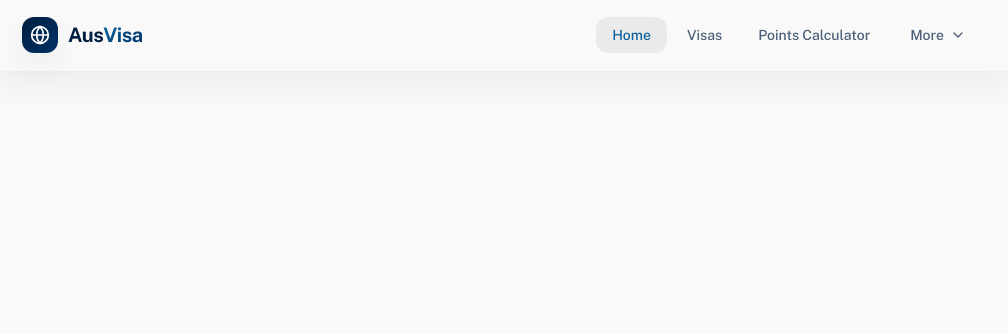
Test: Navbar › opens More menu and shows secondary links on desktop
What coordinates should you click on to do the following:
click the button "More"
I would click on:
 (938, 35)
Its box is [894,17,982,53].
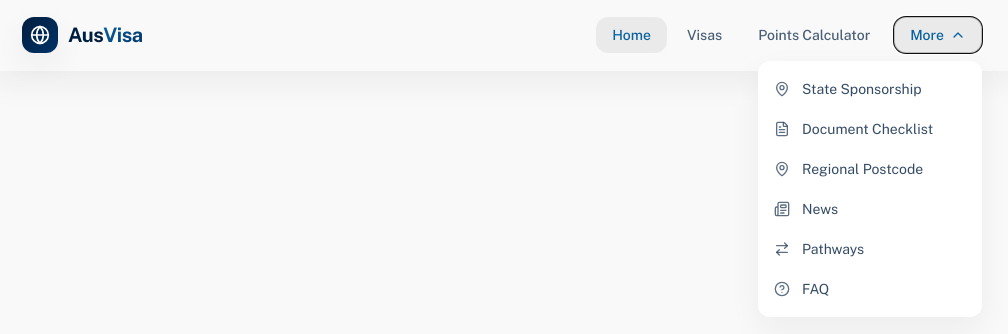
expect the menu is shown: met, box [758,61,982,317]
expect the menu item "State Sponsorship" is shown: met, box [774,81,922,97]
expect the menu item "Document Checklist" is shown: met, box [774,121,933,137]
